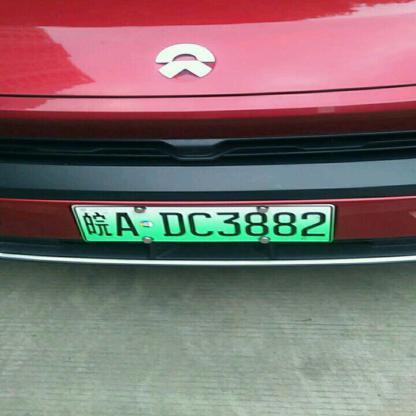lp: (73, 205, 331, 240)
